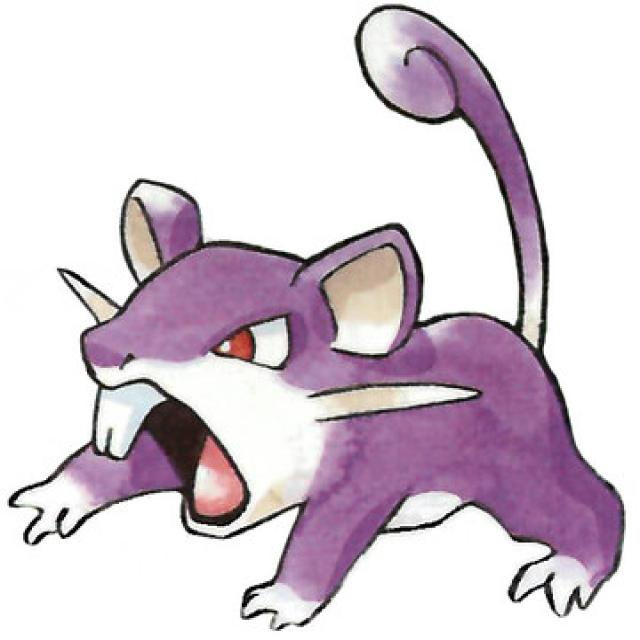Pokemon: (7, 2, 624, 631)
